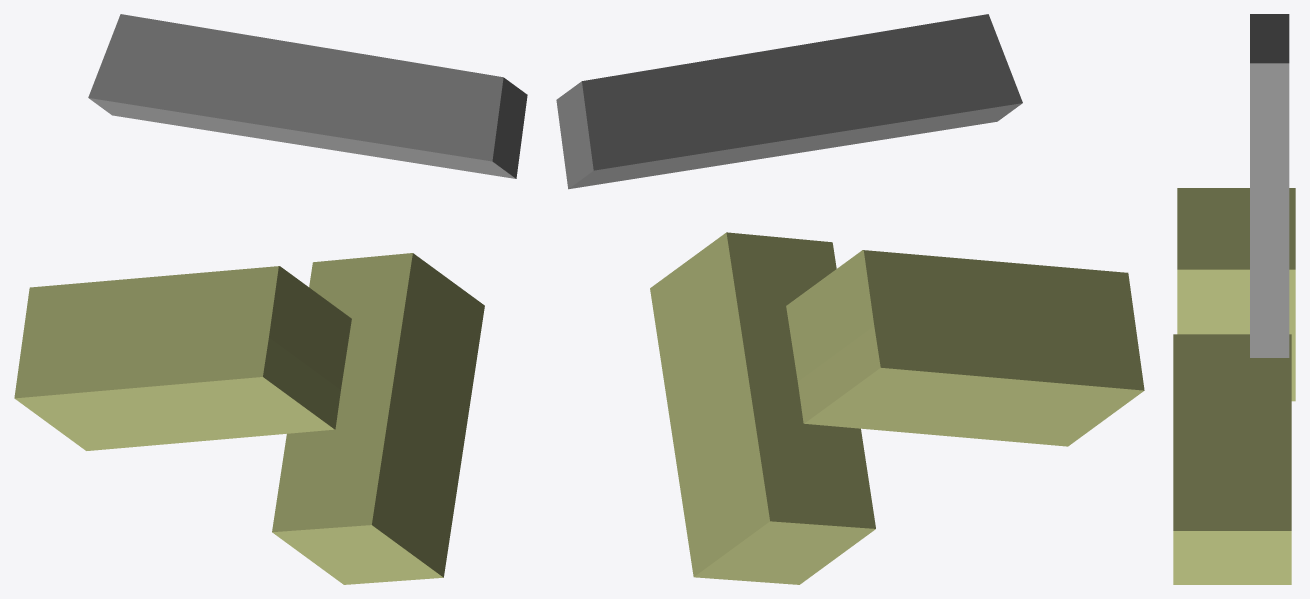
3 renders of one model, left to right at view 1: azimuth 30°, elevation 25°; view 2: azimuth 150°, elevation 25°; view 3: azimuth 270°, elevation 25°, orthographic. The views are drawn at different scales.
Visible parts, largest first — view 1: 0_3_2_0_1_3_0_2_2; view 2: 0_3_2_0_1_3_0_2_2; view 3: 0_3_2_0_1_3_0_2_2.
Boxes of the visible parts, x1=… form: 0_3_2_0_1_3_0_2_2: x1=14, y1=14, x2=527, y2=584; 0_3_2_0_1_3_0_2_2: x1=556, y1=14, x2=1144, y2=584; 0_3_2_0_1_3_0_2_2: x1=1173, y1=14, x2=1295, y2=584.
Bounding box in the file's own units: 35.02 × 39.53 × 9.3.
